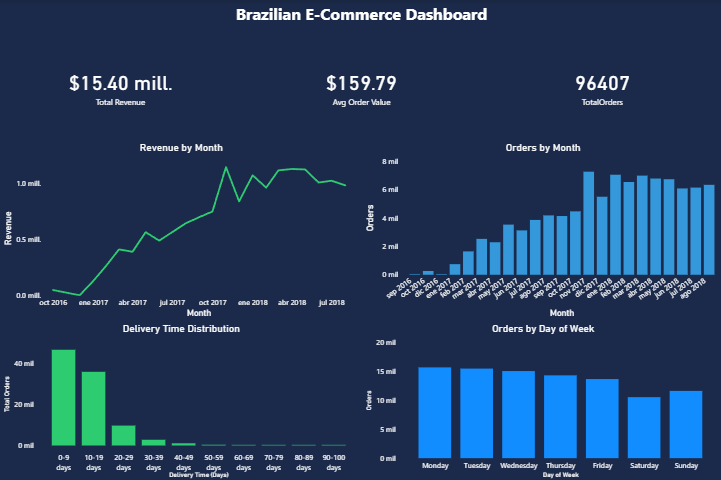

What the dashboard file says about the page in this screenshot:
{"tool":"tableau","page":{"name":"Dashboard 1","canvas":[1200,800],"ordinal":0},"visuals":[{"type":"text","box":[8,8,1184,91]},{"type":"worksheet","title":"KPI Total Revenue","mark":"Automatic","box":[8,99,394.7,135]},{"type":"worksheet","title":"KPI Avg Ticket","mark":"Automatic","box":[402.7,99,394.7,135]},{"type":"worksheet","title":"KPI Total Orders","mark":"Automatic","box":[797.3,99,394.7,135]},{"type":"text","box":[8,234,394.7,32]},{"type":"text","box":[402.7,234,394.7,32]},{"type":"text","box":[797.3,234,394.7,32]},{"type":"text","box":[8,266,592,36]},{"type":"text","box":[600,266,592,36]},{"type":"worksheet","title":"Revenue by Month","mark":"Line","rows":["Calculation_1084451156611072"],"cols":["order_purchase_timestamp"],"box":[8,302,592,195]},{"type":"worksheet","title":"Orders by Month","mark":"Bar","rows":["Calculation_1084451159146498"],"cols":["order_purchase_timestamp"],"box":[600,302,592,195]},{"type":"text","box":[8,497,592,32]},{"type":"text","box":[600,497,592,32]},{"type":"text","box":[8,529,592,32]},{"type":"text","box":[600,529,592,32]},{"type":"worksheet","title":"Delivery Time Distribution","mark":"Bar","rows":["Calculation_1084451159146498"],"box":[8,561,592,199]},{"type":"worksheet","title":"Orders by Day of Week","mark":"Bar","rows":["Calculation_1084451159146498"],"cols":["Calculation_1084451728068611"],"box":[600,561,592,199]},{"type":"text","box":[8,760,592,32]},{"type":"text","box":[600,760,592,32]}]}

Visuals, with their boxes in screenshot pixels (x1, y1, x2, y2), scaled from the page's 1200x800 canvas onto the 721x480 screenshot:
text: select_region(5, 5, 716, 59)
"KPI Total Revenue" worksheet: select_region(5, 59, 242, 140)
"KPI Avg Ticket" worksheet: select_region(242, 59, 479, 140)
"KPI Total Orders" worksheet: select_region(479, 59, 716, 140)
text: select_region(5, 140, 242, 160)
text: select_region(242, 140, 479, 160)
text: select_region(479, 140, 716, 160)
text: select_region(5, 160, 360, 181)
text: select_region(360, 160, 716, 181)
"Revenue by Month" worksheet (Line marks): select_region(5, 181, 360, 298)
"Orders by Month" worksheet (Bar marks): select_region(360, 181, 716, 298)
text: select_region(5, 298, 360, 317)
text: select_region(360, 298, 716, 317)
text: select_region(5, 317, 360, 337)
text: select_region(360, 317, 716, 337)
"Delivery Time Distribution" worksheet (Bar marks): select_region(5, 337, 360, 456)
"Orders by Day of Week" worksheet (Bar marks): select_region(360, 337, 716, 456)
text: select_region(5, 456, 360, 475)
text: select_region(360, 456, 716, 475)
